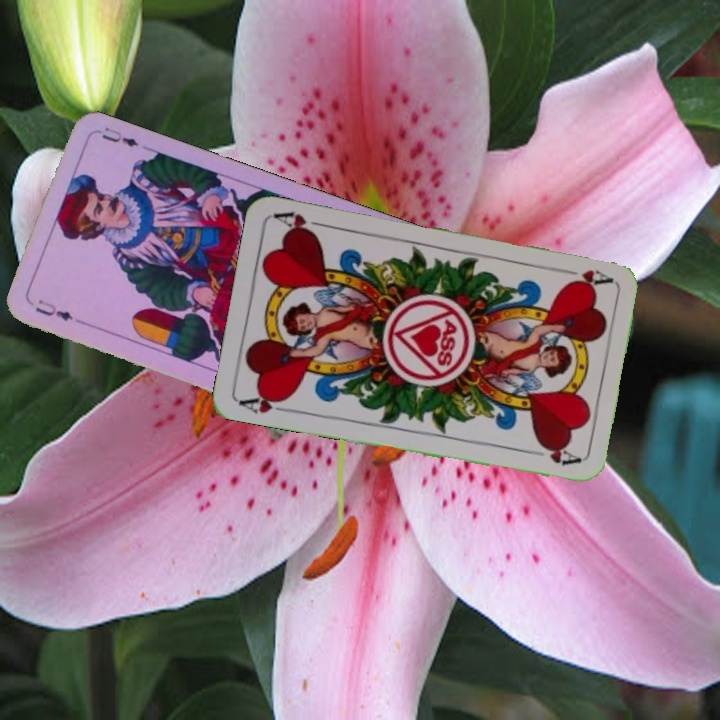EU: (31, 295, 76, 324)
HA: (235, 389, 295, 416), (555, 264, 614, 289)
